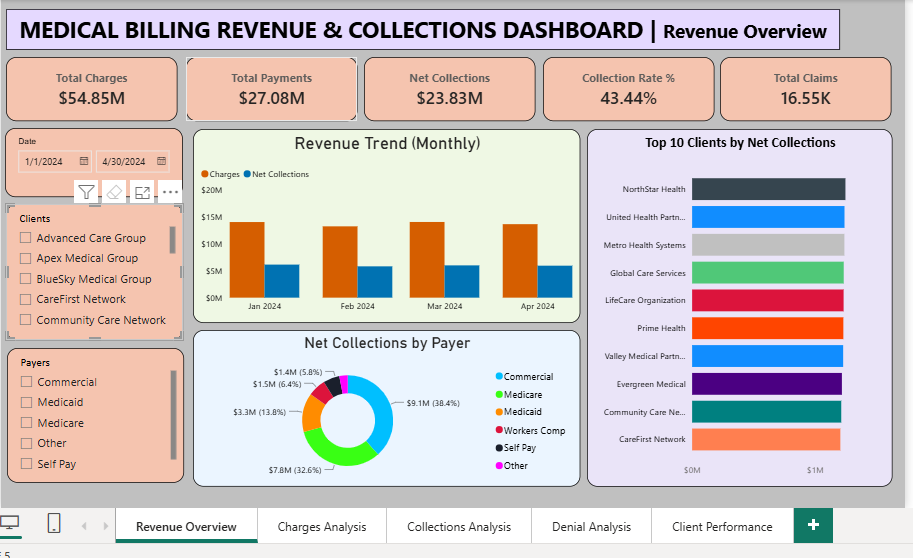

This screenshot's page, from the dashboard's own definition file:
{"tool":"powerbi","page":{"name":"Revenue Overview","canvas":[1280,720],"ordinal":0},"visuals":[{"type":"textbox","box":[7.2,13,1182.2,57.6],"z":0},{"type":"cardVisual","fields":{"Data":["_Measures.Total Charges"]},"box":[7.2,80.6,243.4,90.7],"z":1000},{"type":"cardVisual","fields":{"Data":["_Measures.Total Payments"]},"box":[262.1,80.6,243,90.7],"z":2000},{"type":"cardVisual","fields":{"Data":["_Measures.Net Collections"]},"box":[514.1,80.6,243.4,90.7],"z":3000},{"type":"cardVisual","fields":{"Data":["_Measures.Collection Rate %"]},"box":[767.5,80.6,243.4,90.7],"z":4000},{"type":"cardVisual","fields":{"Data":["_Measures.Total Claims"]},"box":[1019.5,80.6,243.4,90.7],"z":5000},{"type":"clusteredColumnChart","title":"Revenue Trend (Monthly)","fields":{"Category":["Dim_Date.Year_Month"],"Y":["_Measures.Total Charges","_Measures.Net Collections"]},"box":[272.2,182.9,548.6,275],"z":8000},{"type":"slicer","fields":{"Values":["Dim_Date.Year_Month"]},"box":[5.8,181.4,252,97.9],"z":9000},{"type":"slicer","fields":{"Values":["Dim_Client.Client_Name"]},"box":[7.2,289.4,250.6,193],"z":10000},{"type":"slicer","fields":{"Values":["Dim_Payer.Payer_Type"]},"box":[8.5,493.2,250.9,191.3],"z":11000},{"type":"donutChart","title":"Net Collections by Payer","fields":{"Category":["Dim_Payer.Payer_Type"],"Y":["_Measures.Net Collections"]},"box":[272.2,468,548.6,221.8],"z":13000},{"type":"barChart","title":"Top 10 Clients by Net Collections","fields":{"Category":["Dim_Client.Client_Name"],"Y":["_Measures.Net Collections"]},"box":[830.9,182.9,433.4,506.9],"z":14000}]}

Visuals, with their boxes in screenshot pixels (x1, y1, x2, y2):
textbox: crop(5, 7, 837, 47)
cardVisual - _Measures.Total Charges: crop(5, 54, 176, 118)
cardVisual - _Measures.Total Payments: crop(184, 54, 355, 118)
cardVisual - _Measures.Net Collections: crop(362, 54, 533, 118)
cardVisual - _Measures.Collection Rate %: crop(540, 54, 711, 118)
cardVisual - _Measures.Total Claims: crop(717, 54, 888, 118)
"Revenue Trend (Monthly)" clusteredColumnChart: crop(191, 126, 577, 320)
slicer - Dim_Date.Year_Month: crop(4, 125, 181, 194)
slicer - Dim_Client.Client_Name: crop(5, 201, 181, 337)
slicer - Dim_Payer.Payer_Type: crop(6, 345, 182, 479)
"Net Collections by Payer" donutChart: crop(191, 327, 577, 483)
"Top 10 Clients by Net Collections" barChart: crop(584, 126, 889, 483)
